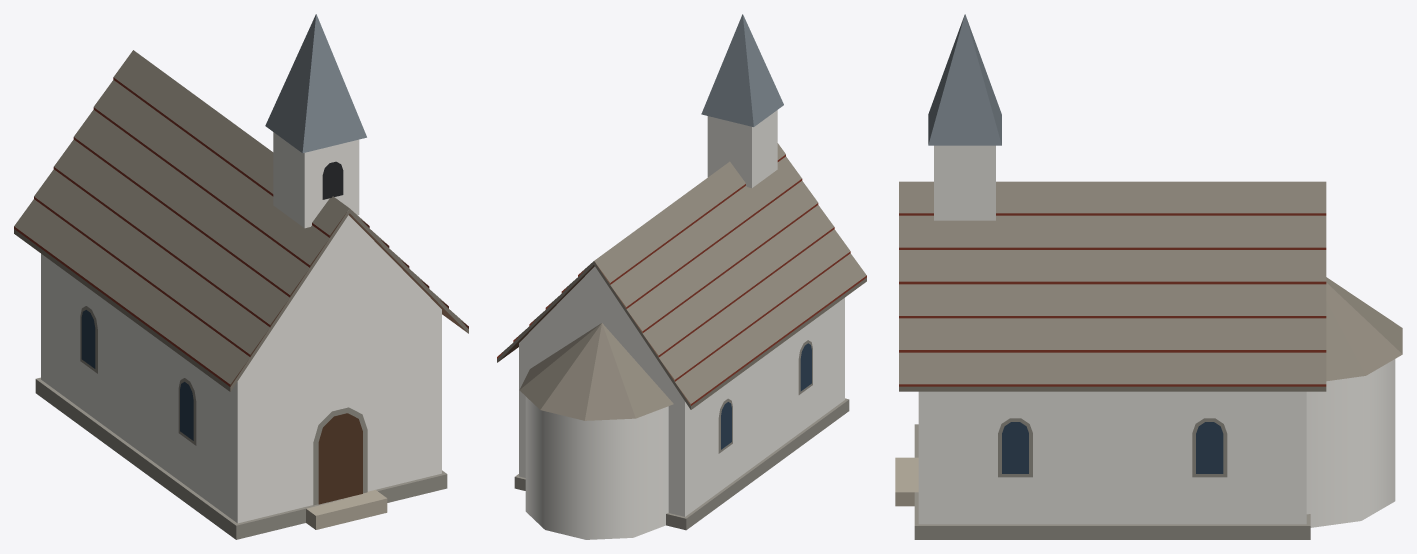
Rendered from chapelle_alpine.glb.
The picture shows the model from 3 angles, left to right: view 1: azimuth 30°, elevation 25°; view 2: azimuth 150°, elevation 25°; view 3: azimuth 270°, elevation 25°; orthographic projection. The views are drawn at different scales.
Parts seen in each view (by area): view 1: chapelle_alpine; view 2: chapelle_alpine; view 3: chapelle_alpine.
Boxes of the visible parts, x1,y1,x2,y2 form: chapelle_alpine: (14,14,468,539); chapelle_alpine: (497,14,866,539); chapelle_alpine: (895,14,1402,539).
Size of the model in its own units: 7 by 13.5 by 13.07.
1 material, 1 textured.
